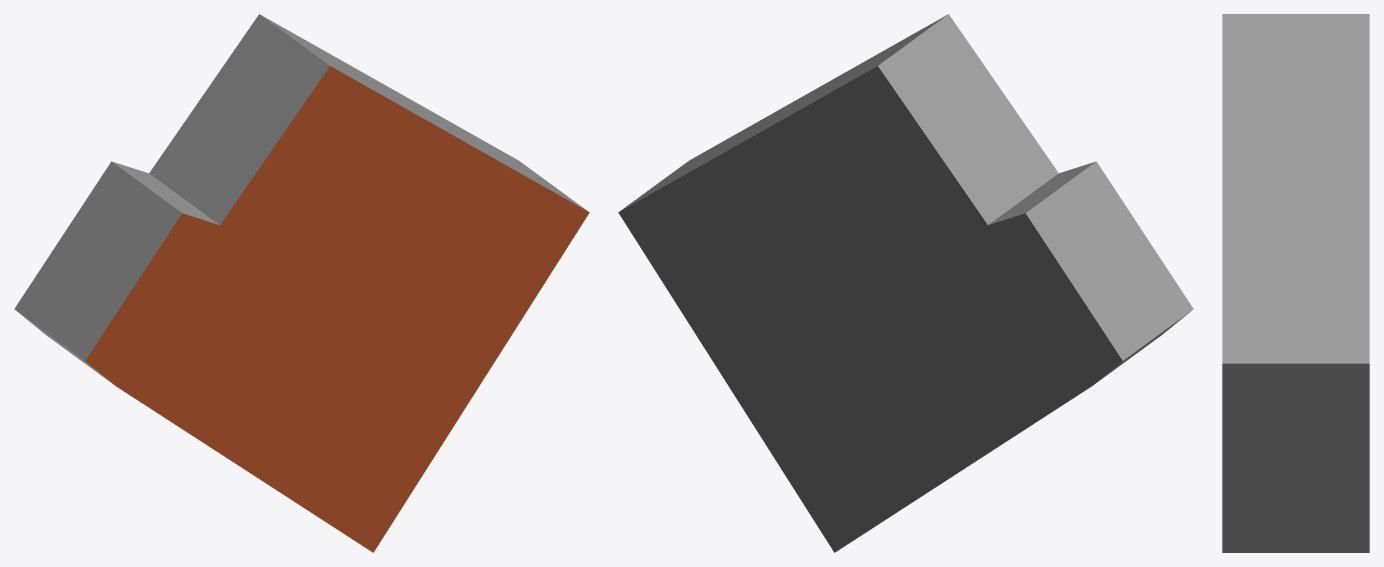
Rendered from construction_0414_assumed_A_Casa_h6m.obj.
3 renders of one model, left to right at view 1: azimuth 30°, elevation 25°; view 2: azimuth 150°, elevation 25°; view 3: azimuth 270°, elevation 25°, orthographic. The views are drawn at different scales.
Visible parts, largest first — view 1: construction_0414_assumed_A_Casa; view 2: construction_0414_assumed_A_Casa; view 3: construction_0414_assumed_A_Casa.
Part boxes in pixels (x1,y1,x2,y2): construction_0414_assumed_A_Casa: [14, 14, 589, 552]; construction_0414_assumed_A_Casa: [618, 14, 1193, 552]; construction_0414_assumed_A_Casa: [1222, 14, 1369, 552].
Size of the model in its own units: 24.66 by 23.24 by 6.
